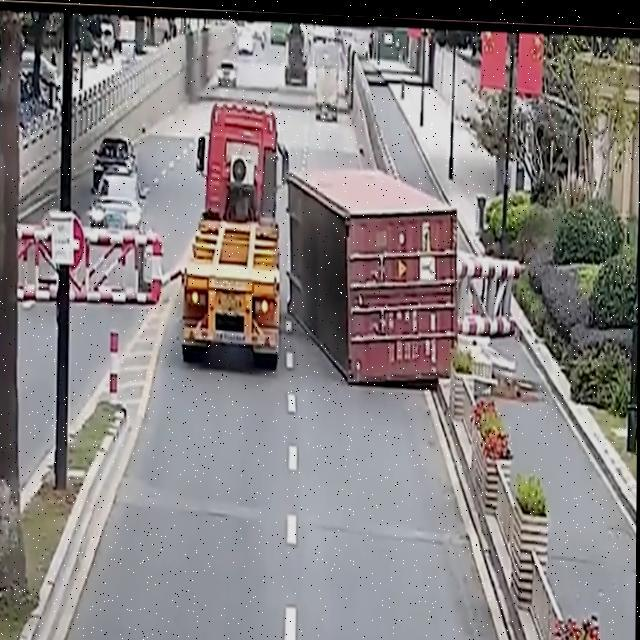single accident: (181, 61, 460, 343)
